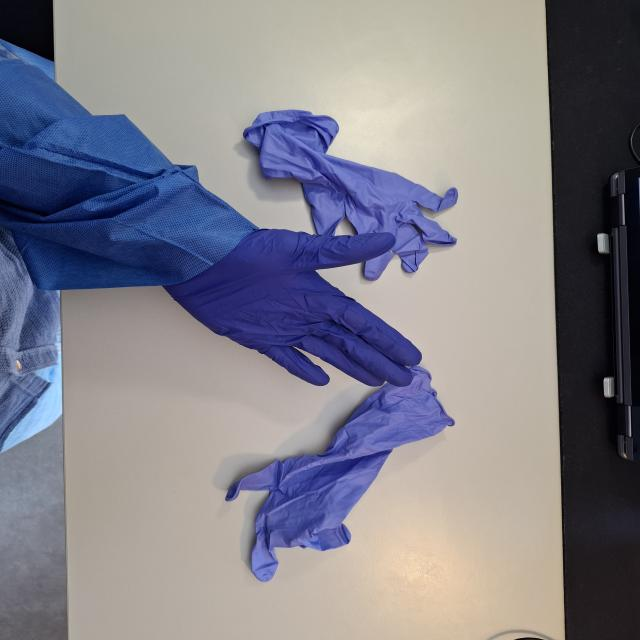glove_on: (152, 225, 424, 387)
